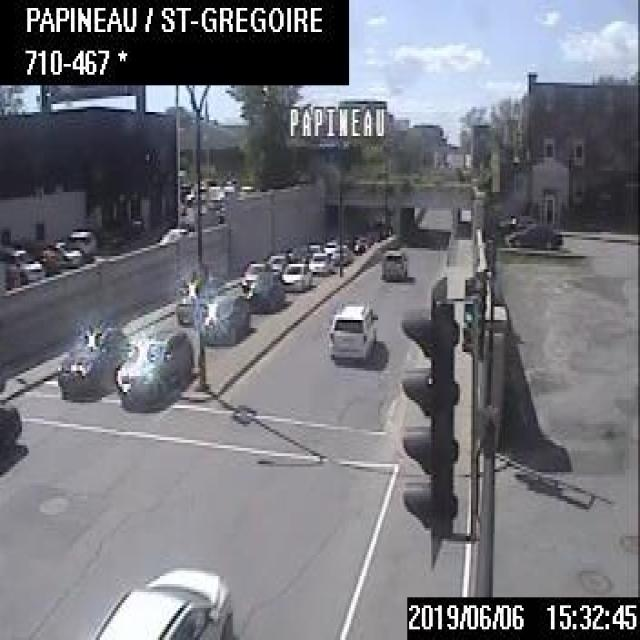vehicle: (87, 563, 233, 637), (112, 324, 194, 411), (57, 321, 129, 401), (202, 278, 250, 342), (328, 301, 377, 360), (0, 400, 22, 475), (508, 218, 562, 248), (176, 275, 207, 326), (0, 246, 44, 278), (250, 269, 284, 310), (281, 259, 312, 296), (27, 244, 62, 274), (66, 231, 94, 261), (380, 245, 405, 278), (52, 239, 80, 266), (240, 259, 264, 286), (263, 251, 289, 273), (310, 250, 329, 278), (157, 226, 187, 242), (330, 242, 351, 263), (303, 241, 322, 259), (352, 234, 369, 252), (322, 240, 336, 256)
